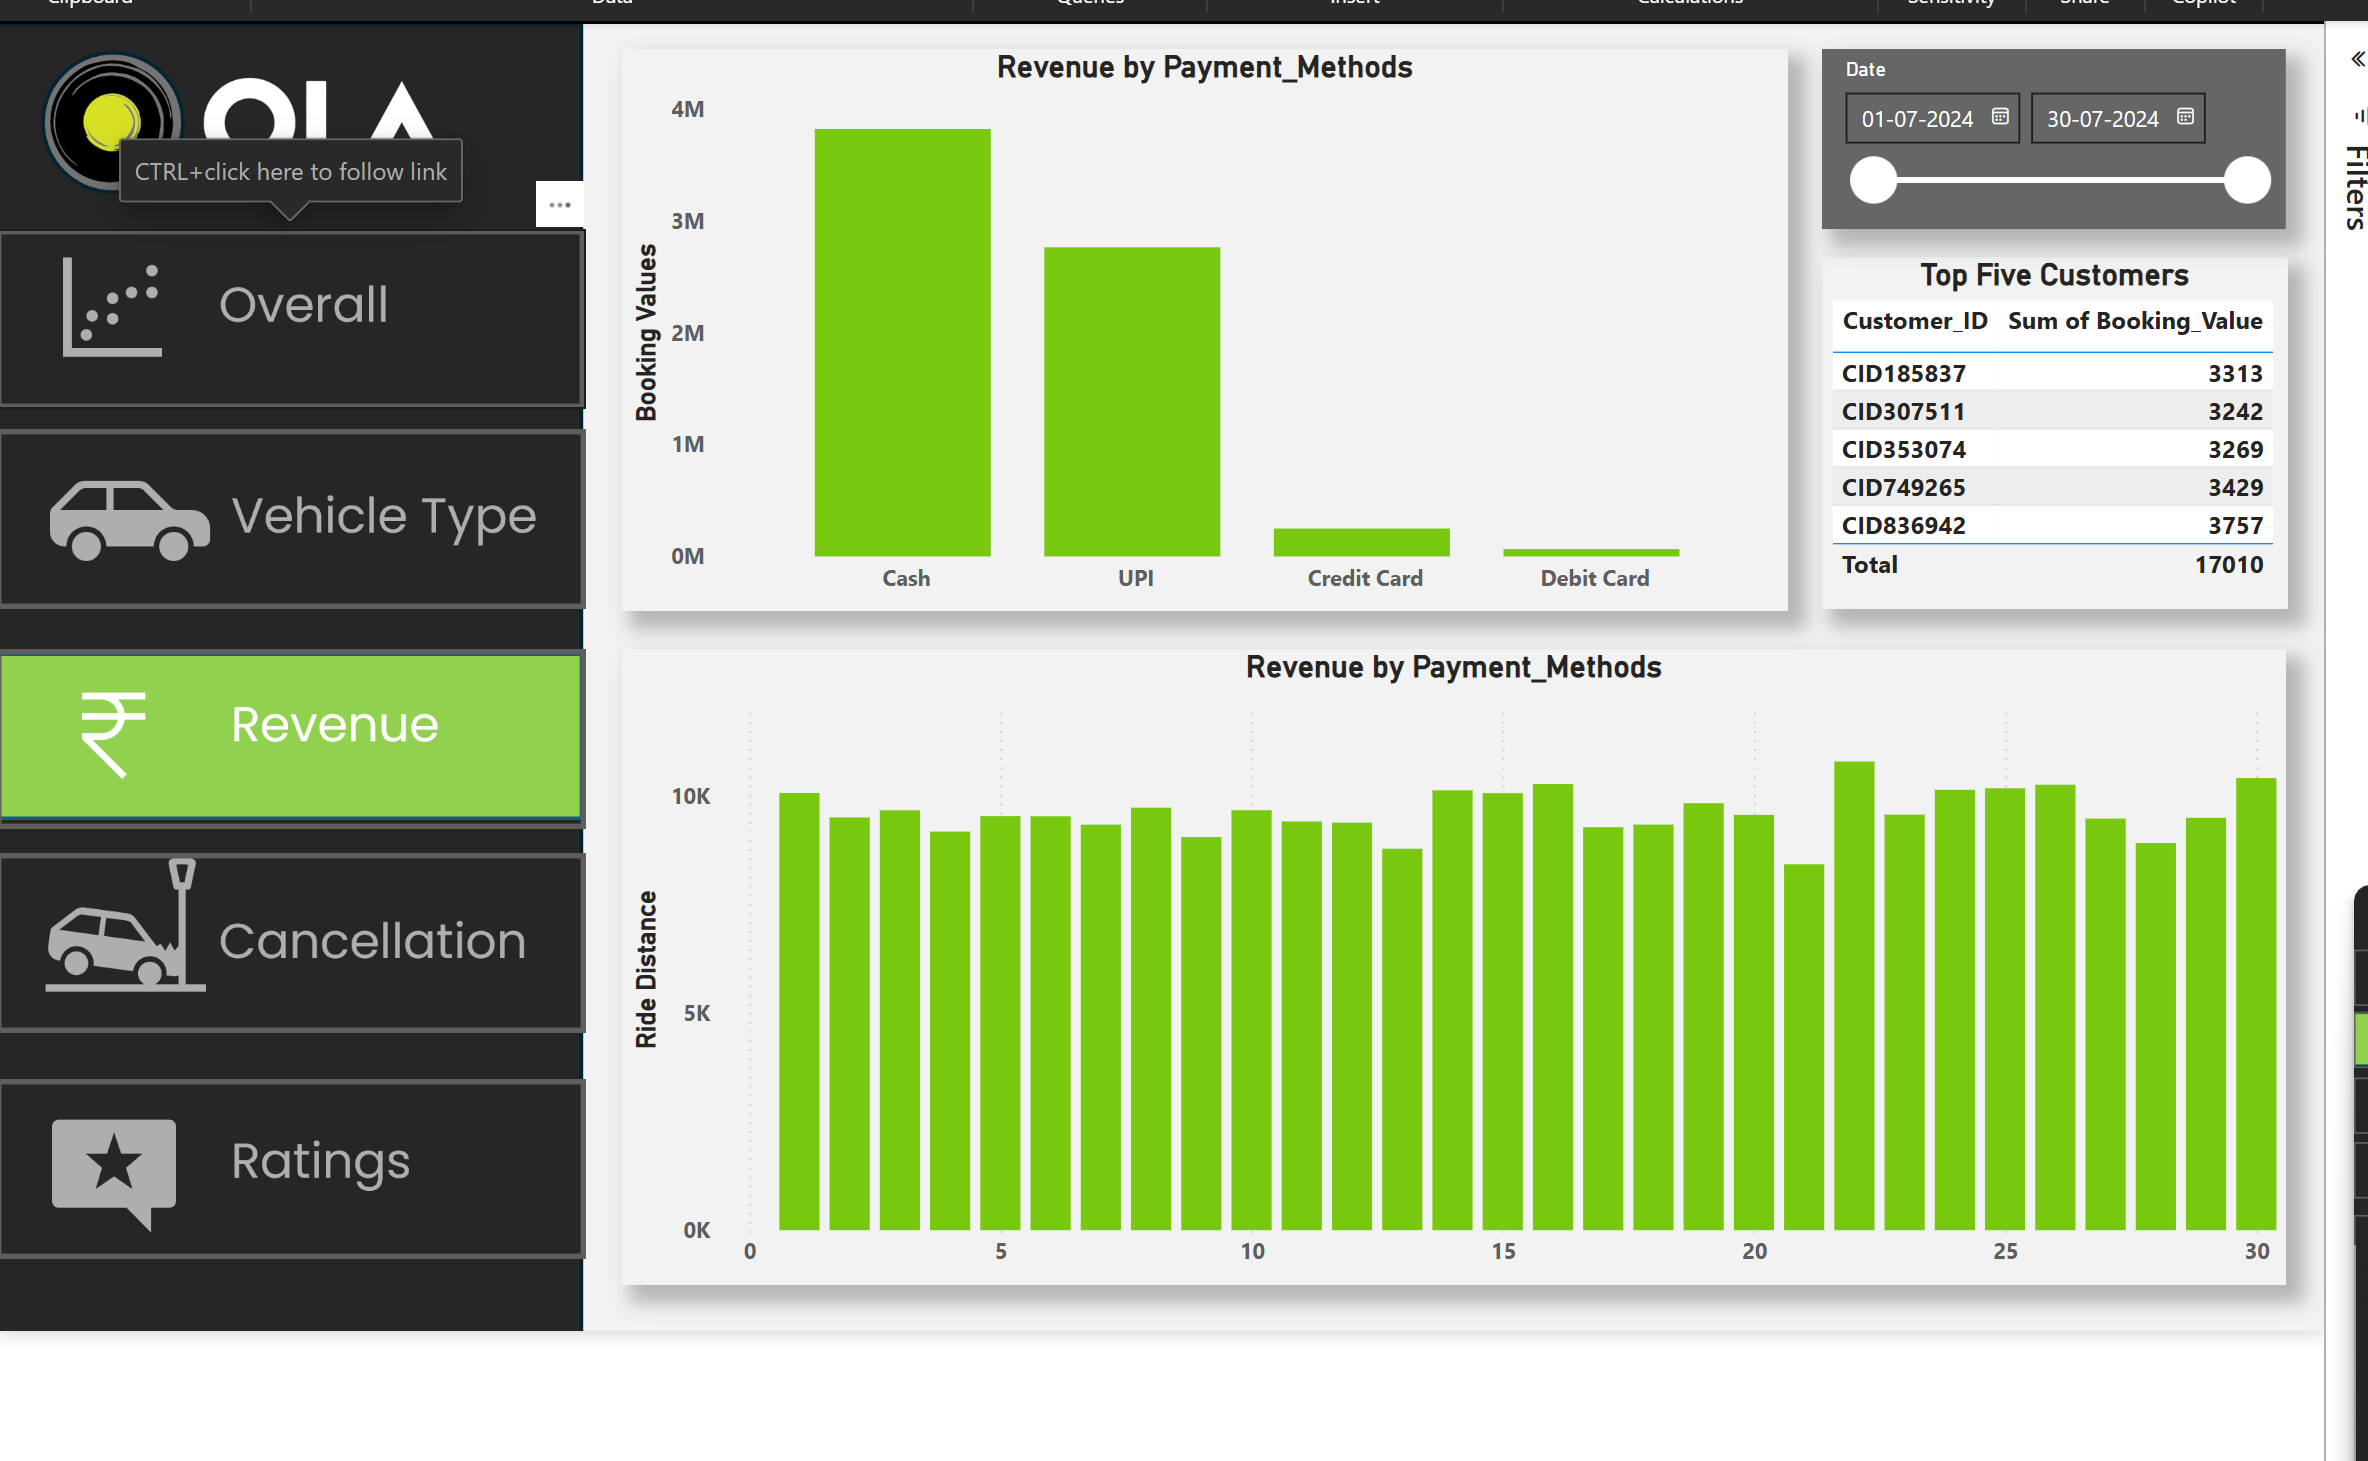

The dashboard page shown, as its layout file describes it:
{"tool":"powerbi","page":{"name":"Revenue","canvas":[1280,720],"ordinal":2},"visuals":[{"type":"actionButton","box":[0,114.4,323.9,99],"z":0},{"type":"actionButton","box":[0,224.3,324.4,99],"z":1000},{"type":"actionButton","box":[0,345.3,324.4,99],"z":2000},{"type":"actionButton","box":[0,457.5,324.4,99],"z":3000},{"type":"actionButton","box":[0,581.7,324.4,99],"z":4000},{"type":"columnChart","title":"Revenue by Payment_Methods","fields":{"Y":["Sum(OLA.Booking_Value)"],"Category":["OLA.Payment_Method"]},"box":[344.2,15.4,641.1,309],"z":5000},{"type":"columnChart","title":"Revenue by Payment_Methods","fields":{"Y":["Sum(OLA.Ride_Distance)"],"Category":["OLA.Date.Variation.Date Hierarchy.Day"]},"box":[344.4,345.7,915,349.6],"z":6000},{"type":"slicer","fields":{"Values":["OLA.Date"]},"box":[1004,15.4,255.1,99],"z":7000},{"type":"tableEx","title":"Top Five Customers","fields":{"Values":["OLA.Customer_ID","Sum(OLA.Booking_Value)"]},"box":[1004,129.8,256.2,193.5],"z":8000}]}

Visuals, with their boxes on the page's 1280x720 design canvas (x1, y1, x2, y2). These are canvas units, not pixel positions in the 2368x1461 screenshot, which may show the page scaled, cropped or inside an application window:
actionButton: [0,114,324,213]
actionButton: [0,224,324,323]
actionButton: [0,345,324,444]
actionButton: [0,458,324,556]
actionButton: [0,582,324,681]
"Revenue by Payment_Methods" columnChart: [344,15,985,324]
"Revenue by Payment_Methods" columnChart: [344,346,1259,695]
slicer - OLA.Date: [1004,15,1259,114]
"Top Five Customers" tableEx: [1004,130,1260,323]
